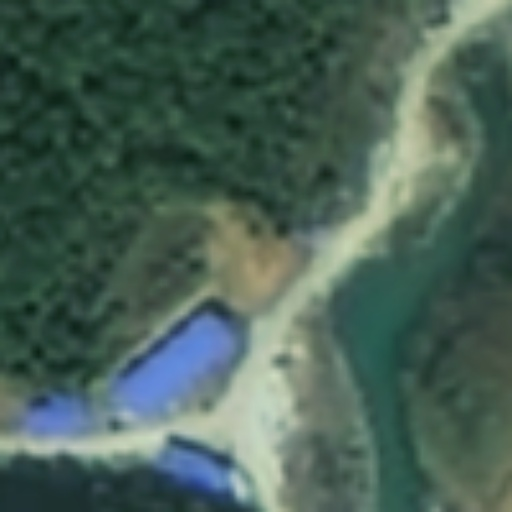landslide: (210, 199, 312, 306)
